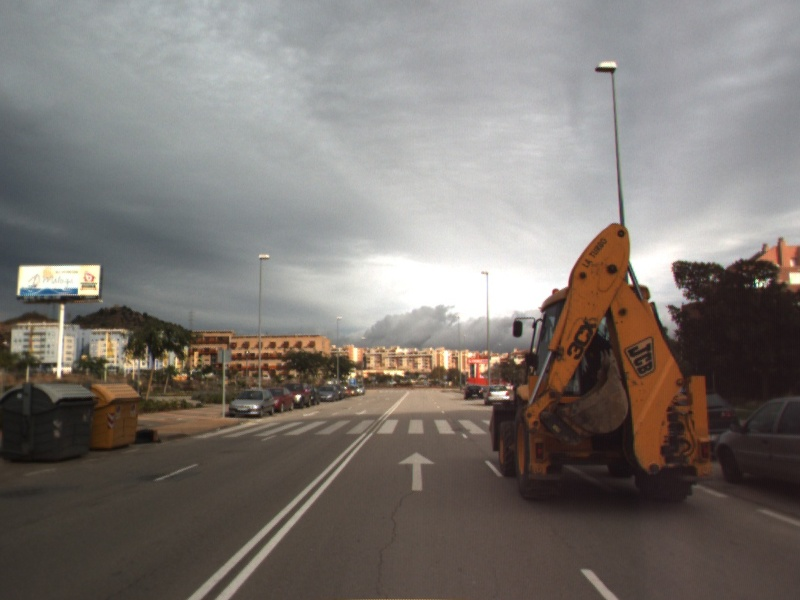STRAIGHT: (396, 450, 437, 493)
